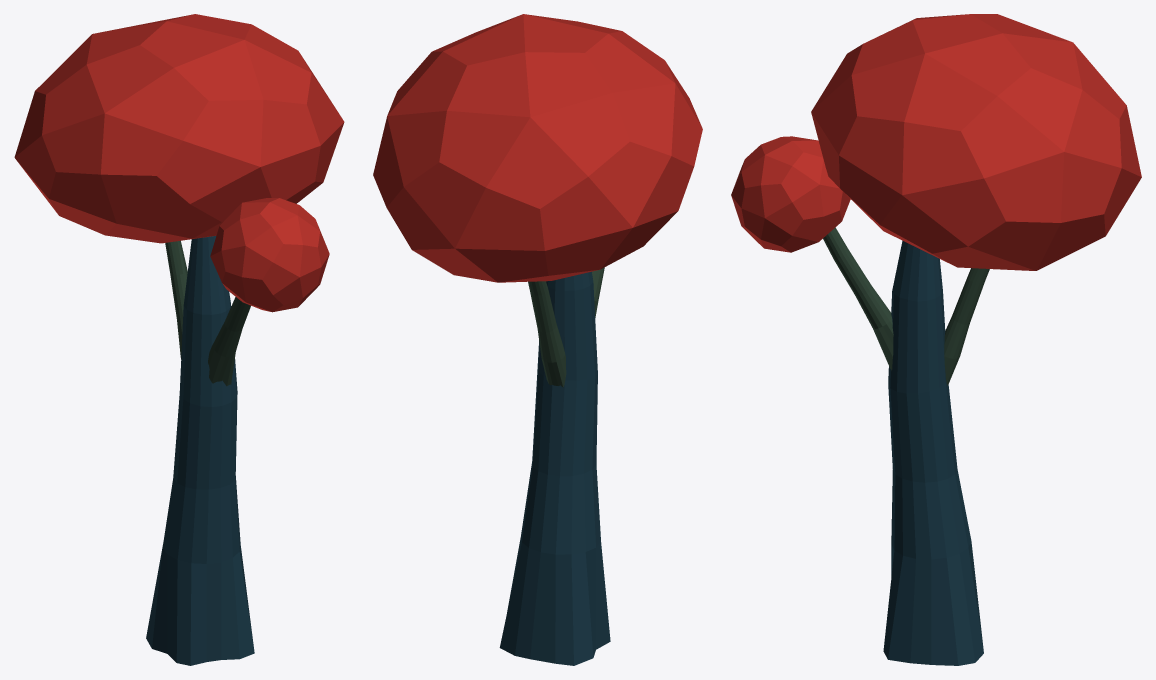
Rendered from Tree2.obj.
The picture shows the model from 3 angles, left to right: view 1: azimuth 30°, elevation 25°; view 2: azimuth 150°, elevation 25°; view 3: azimuth 270°, elevation 25°; orthographic projection. The views are drawn at different scales.
Visible parts, largest first — view 1: pPlatonic2, pCylinder1, pPlatonic1, pasted__pCylinder1 group, pasted__pasted__pCylinder1 pasted__group group1; view 2: pPlatonic2, pCylinder1, pasted__pasted__pCylinder1 pasted__group group1; view 3: pPlatonic2, pCylinder1, pPlatonic1, pasted__pCylinder1 group, pasted__pasted__pCylinder1 pasted__group group1.
Boxes of the visible parts, x1=… form: pPlatonic2: x1=14, y1=14, x2=344, y2=243; pCylinder1: x1=146, y1=236, x2=254, y2=665; pPlatonic1: x1=210, y1=198, x2=329, y2=312; pasted__pCylinder1 group: x1=208, y1=297, x2=250, y2=386; pasted__pasted__pCylinder1 pasted__group group1: x1=165, y1=240, x2=187, y2=359; pPlatonic2: x1=373, y1=14, x2=702, y2=282; pCylinder1: x1=499, y1=271, x2=610, y2=665; pasted__pasted__pCylinder1 pasted__group group1: x1=528, y1=281, x2=566, y2=387; pPlatonic2: x1=811, y1=14, x2=1141, y2=270; pCylinder1: x1=883, y1=240, x2=983, y2=665; pPlatonic1: x1=731, y1=136, x2=850, y2=252; pasted__pCylinder1 group: x1=823, y1=227, x2=893, y2=370; pasted__pasted__pCylinder1 pasted__group group1: x1=944, y1=268, x2=989, y2=385.
Size of the model in its own units: 7.29 by 15.16 by 9.25.
